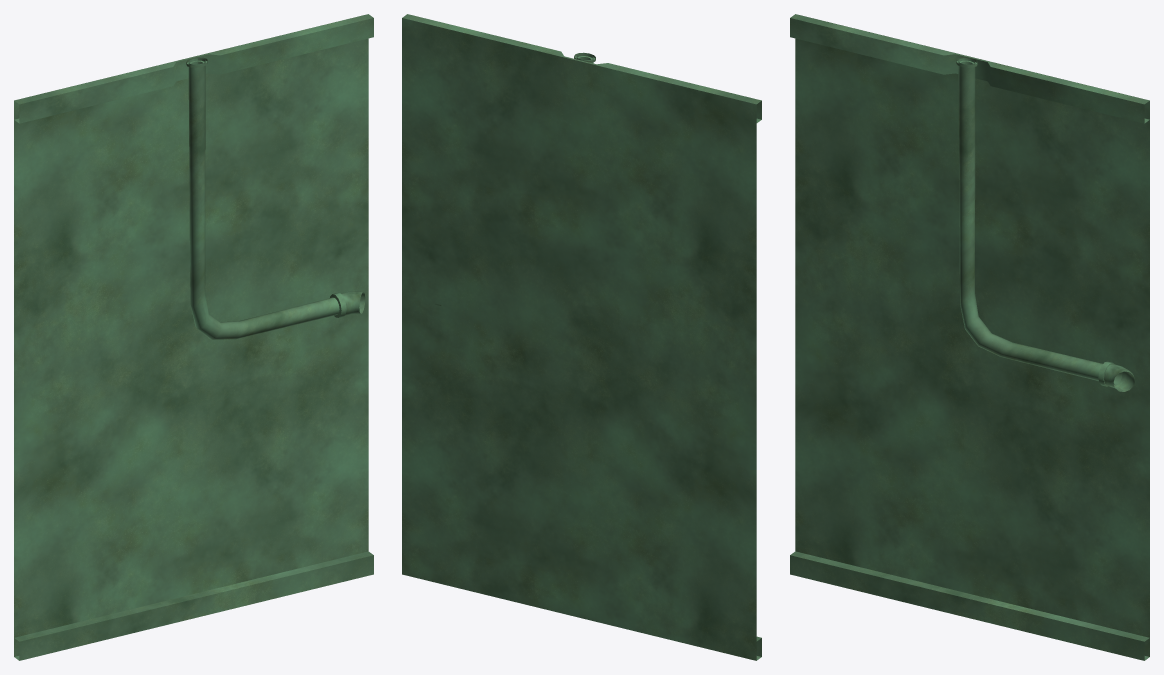
The model's file is Wall_LowerDeck_Up_Corner1.FBX.
3 renders of one model, left to right at view 1: azimuth 30°, elevation 25°; view 2: azimuth 150°, elevation 25°; view 3: azimuth 330°, elevation 25°, orthographic.
Visible parts, largest first — view 1: Plane015; view 2: Plane015; view 3: Plane015.
Boxes of the visible parts, x1=… form: Plane015: x1=14, y1=14, x2=373, y2=660; Plane015: x1=402, y1=14, x2=761, y2=660; Plane015: x1=790, y1=14, x2=1149, y2=660.
Size of the model in its own units: 200 by 300 by 13.46.
